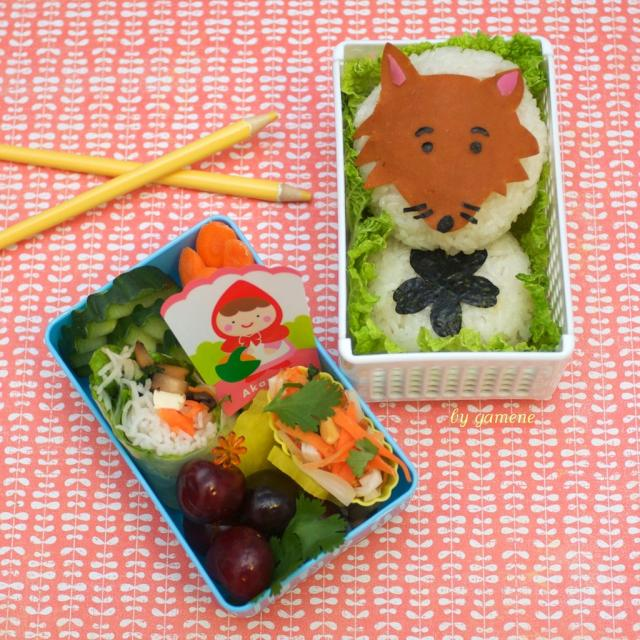Healty Apple: (170, 463, 244, 534)
